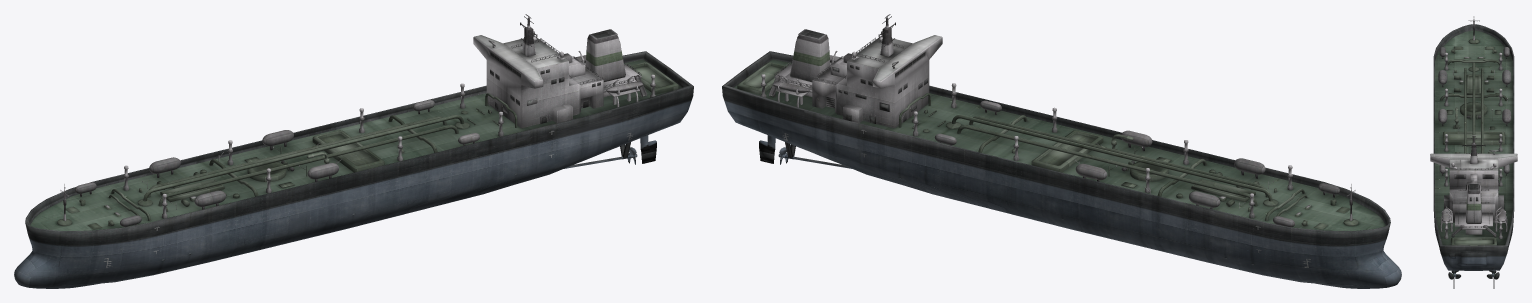
Rendered from OilTanker.glb.
The picture shows the model from 3 angles, left to right: view 1: azimuth 30°, elevation 25°; view 2: azimuth 150°, elevation 25°; view 3: azimuth 270°, elevation 25°; orthographic projection. The views are drawn at different scales.
Parts seen in each view (by area): view 1: Tanker_D_Hull_High_01, Tanker_D_Detail_01, Tanker_D_SS_01, PropsRudder_01; view 2: Tanker_D_Hull_High_01, Tanker_D_Detail_01, Tanker_D_SS_01, PropsRudder_01; view 3: Tanker_D_Hull_High_01, Tanker_D_Detail_01, Tanker_D_SS_01, PropsRudder_01.
Part boxes in pixels (x1,y1,x2,y2): Tanker_D_Hull_High_01: (14,51,693,288); Tanker_D_Detail_01: (57,14,678,229); Tanker_D_SS_01: (473,29,641,128); PropsRudder_01: (564,135,656,168); Tanker_D_Hull_High_01: (722,51,1401,288); Tanker_D_Detail_01: (737,14,1358,229); Tanker_D_SS_01: (774,29,942,128); PropsRudder_01: (759,135,851,168); Tanker_D_Hull_High_01: (1433,24,1514,270); Tanker_D_Detail_01: (1438,16,1511,245); Tanker_D_SS_01: (1430,153,1517,234); PropsRudder_01: (1448,270,1499,288).
Bounding box in the file's own units: 82.24 × 19.43 × 13.38.
1 material, 1 textured.
